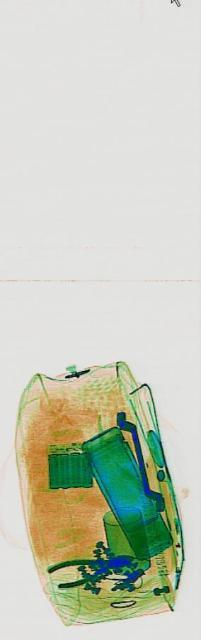Pliers: (46, 543, 131, 593)
